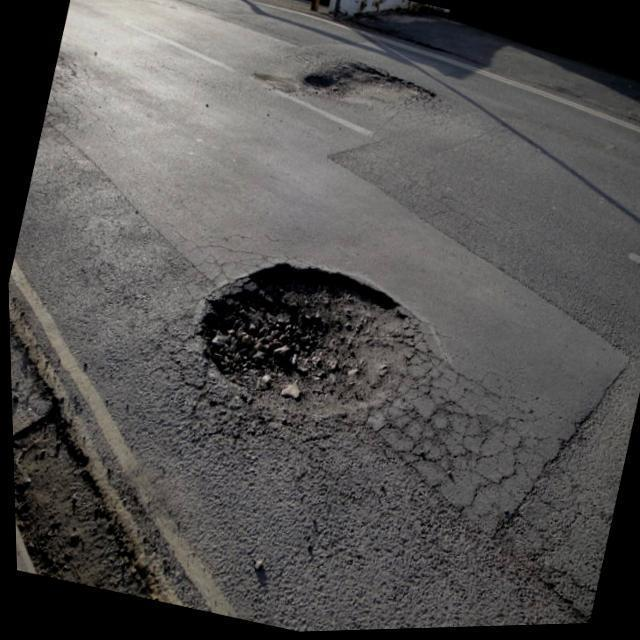Pothole: (199, 264, 440, 404), (302, 62, 435, 104)
